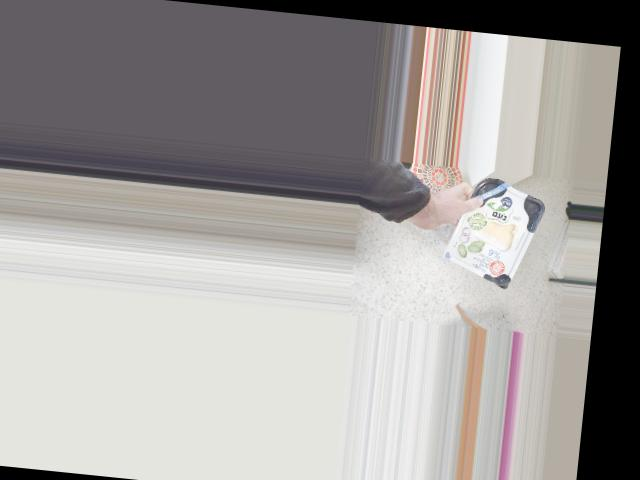cheese: (451, 187, 528, 279)
